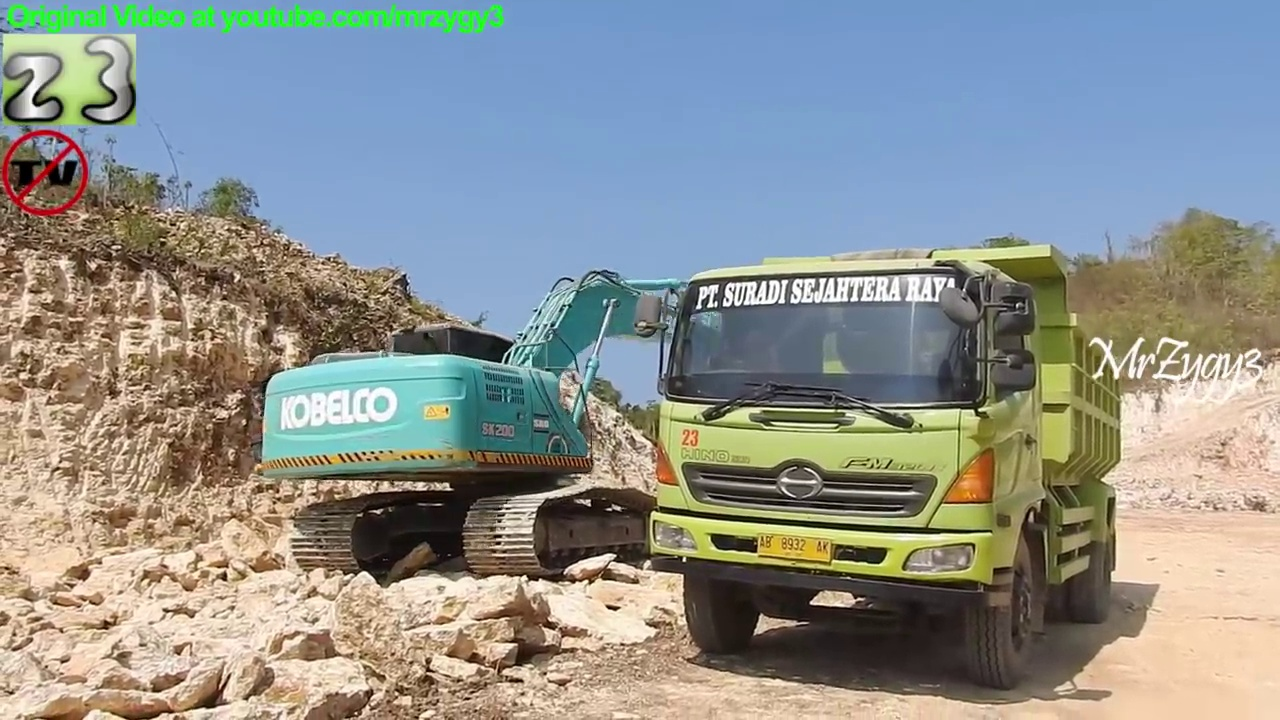excavator: (250, 258, 978, 589)
truck: (630, 236, 1131, 696)
